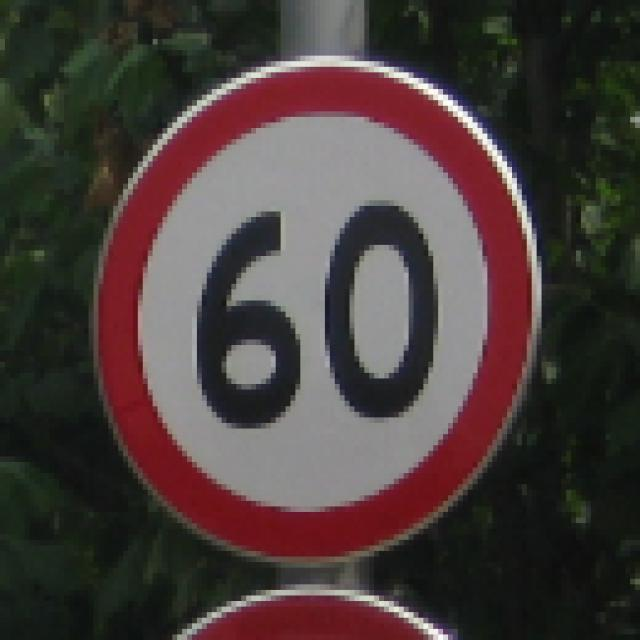speed limit 60: (94, 58, 542, 570)
